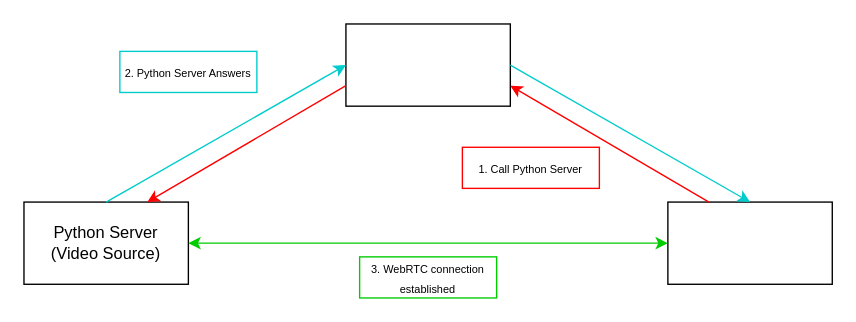
This 856x322 diagram has some shape labels left out. The centre of each missing label's shape, as x and y in pixels:
Unity Client: [749,242]
Websocket (For establishing WebRTC connection): [427,64]
